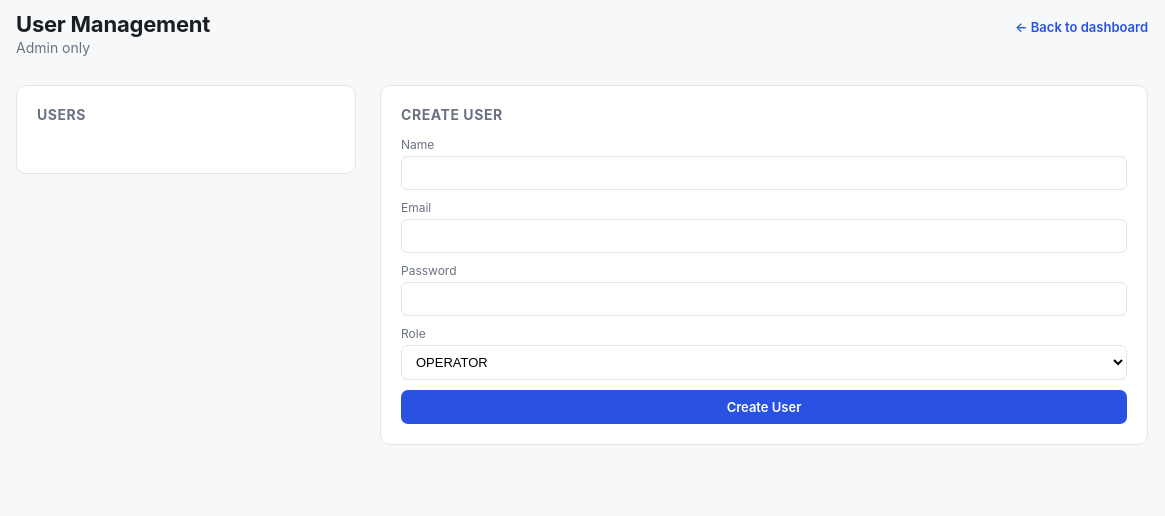
Scenario: AdminUsers › shows an error banner when user creation fails, without clearing the form
Type "Dupe Person" into the field labelled "Name".
click(764, 173); type("Dupe Person")  # box [401,156,1127,190]
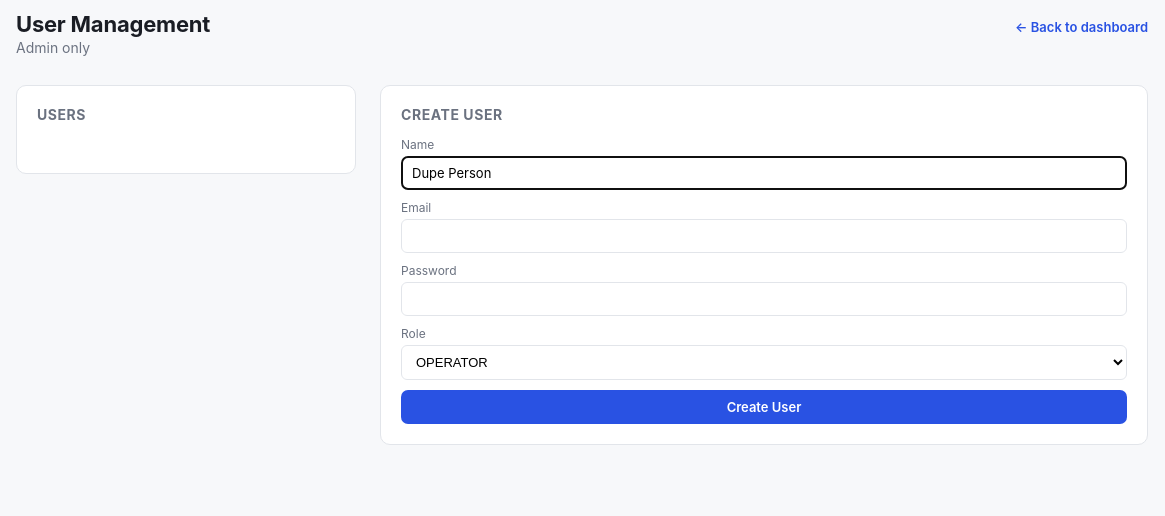
Type "dupe@pharmachain.demo" into the field labelled "Email".
click(764, 236); type("dupe@pharmachain.demo")  # box [401,219,1127,253]
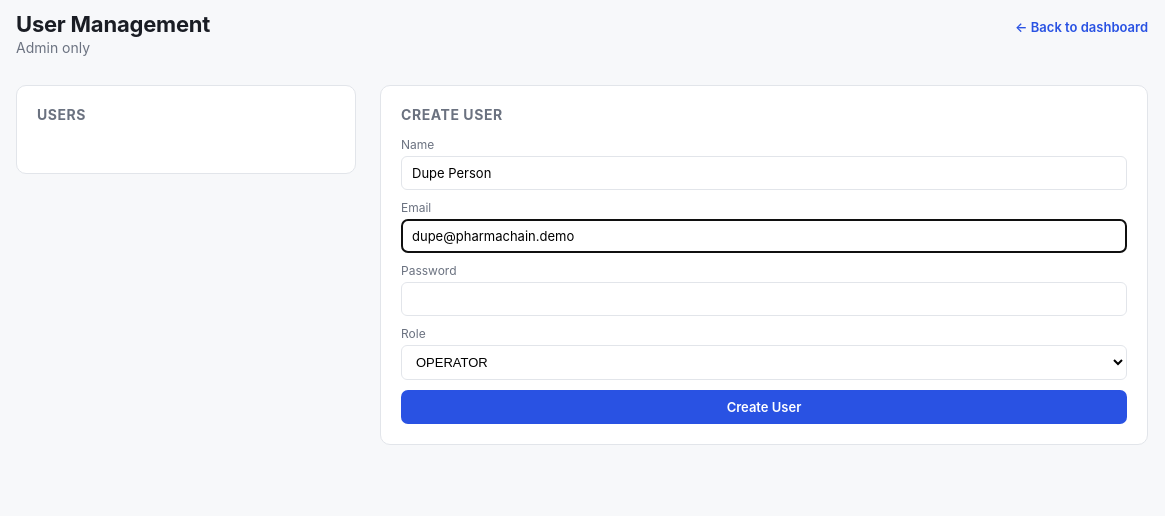
Type "demo1234" into the password field labelled "Password".
click(764, 299); type("demo1234")  # box [401,282,1127,316]
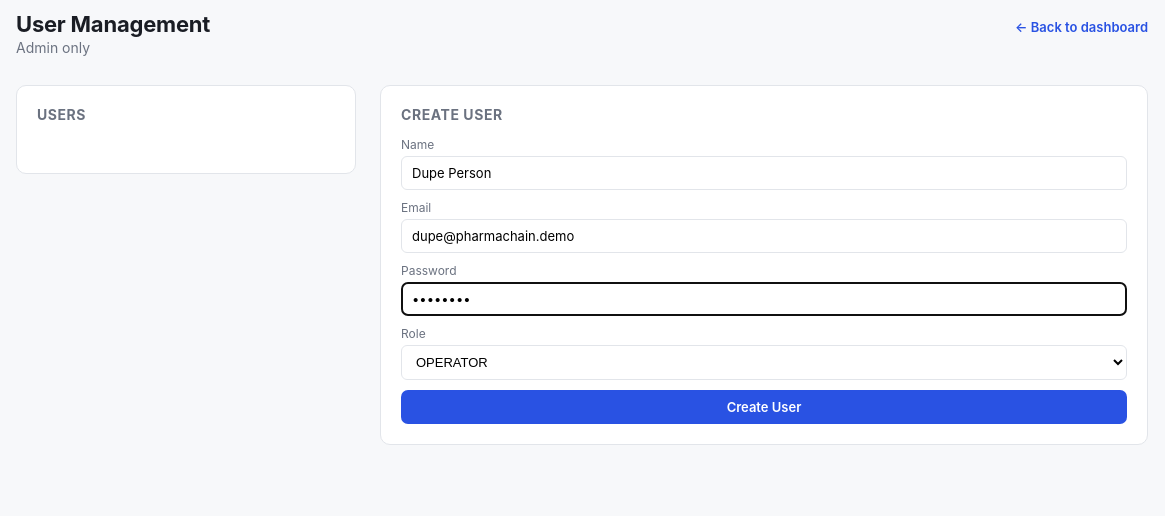
Click the button "Create User".
click(764, 407)  # box [401,390,1127,424]
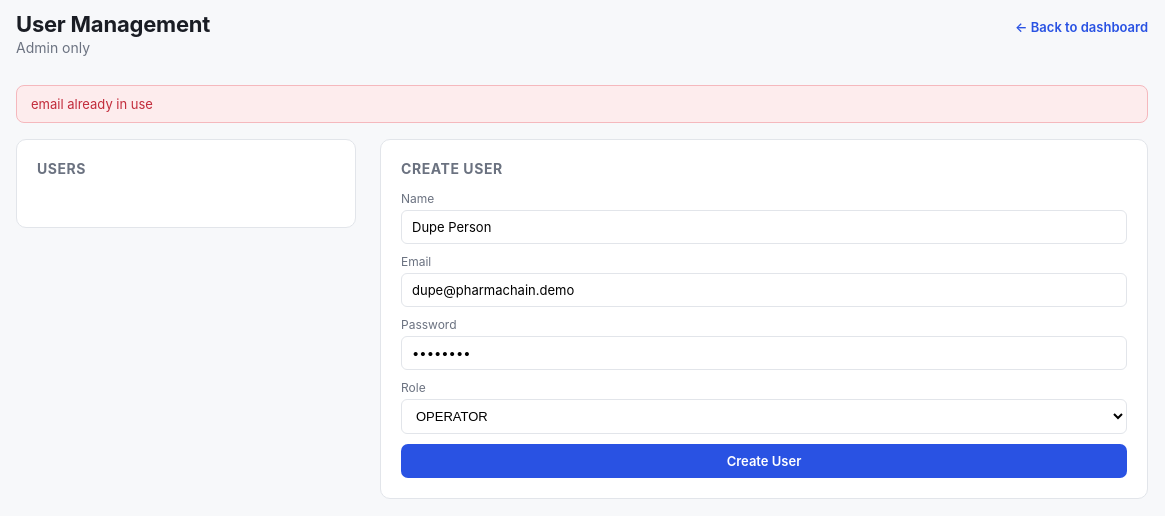
Expected: the text "email already in use" is shown, [16,85,1148,123]
